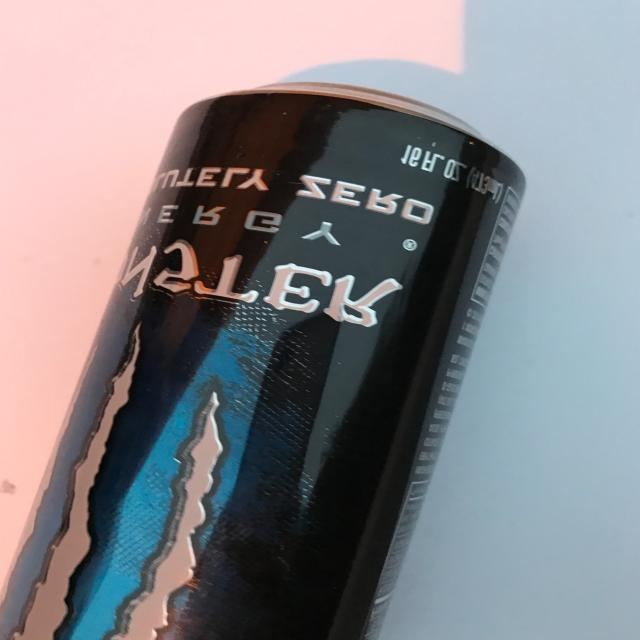metal: (0, 81, 528, 640)
